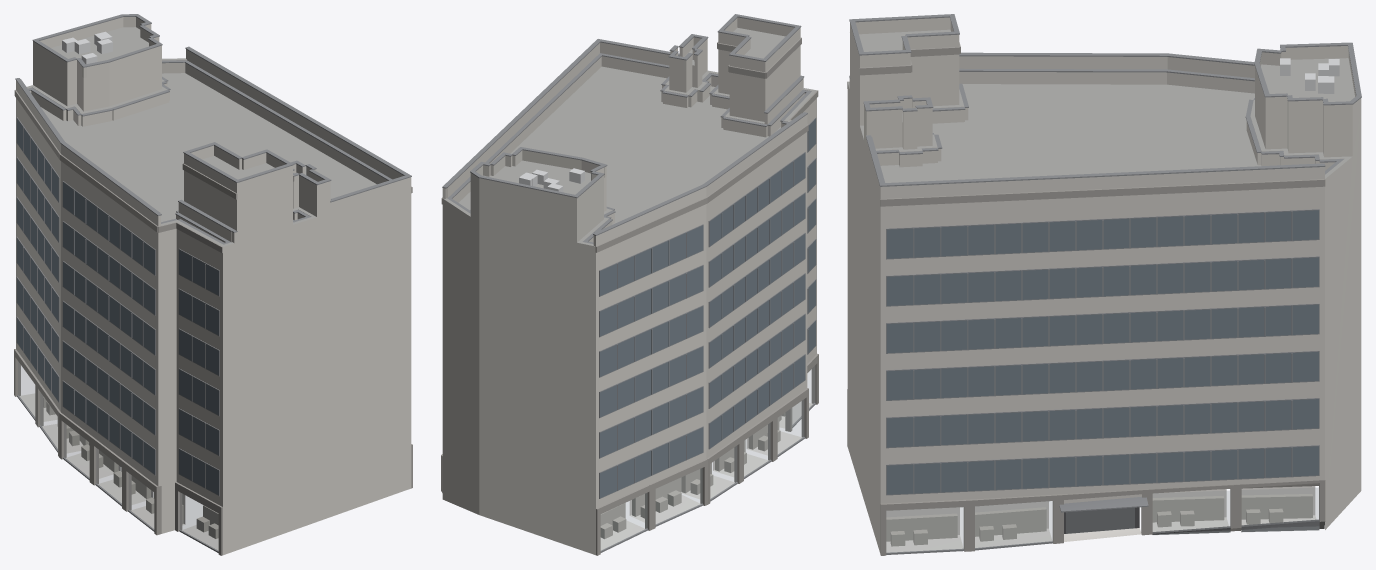
File: d12-parkside-kyodo-inferred.glb
The picture shows the model from 3 angles, left to right: view 1: azimuth 30°, elevation 25°; view 2: azimuth 150°, elevation 25°; view 3: azimuth 270°, elevation 25°; orthographic projection. The views are drawn at different scales.
Parts seen in each view (by area): view 1: INFERRED_facade.001, INFERRED_ground.001; view 2: INFERRED_facade.001, INFERRED_ground.001; view 3: INFERRED_facade.001, INFERRED_ground.001.
Boxes of the visible parts, x1,y1,x2,y2 form: INFERRED_facade.001: (14,14,412,555); INFERRED_ground.001: (18,362,218,550); INFERRED_facade.001: (441,14,818,555); INFERRED_ground.001: (601,366,814,550); INFERRED_facade.001: (847,14,1361,555); INFERRED_ground.001: (886,487,1319,552).
Bounding box in the file's own units: 20.78 × 31.43 × 33.61.
3 materials, 1 textured.
